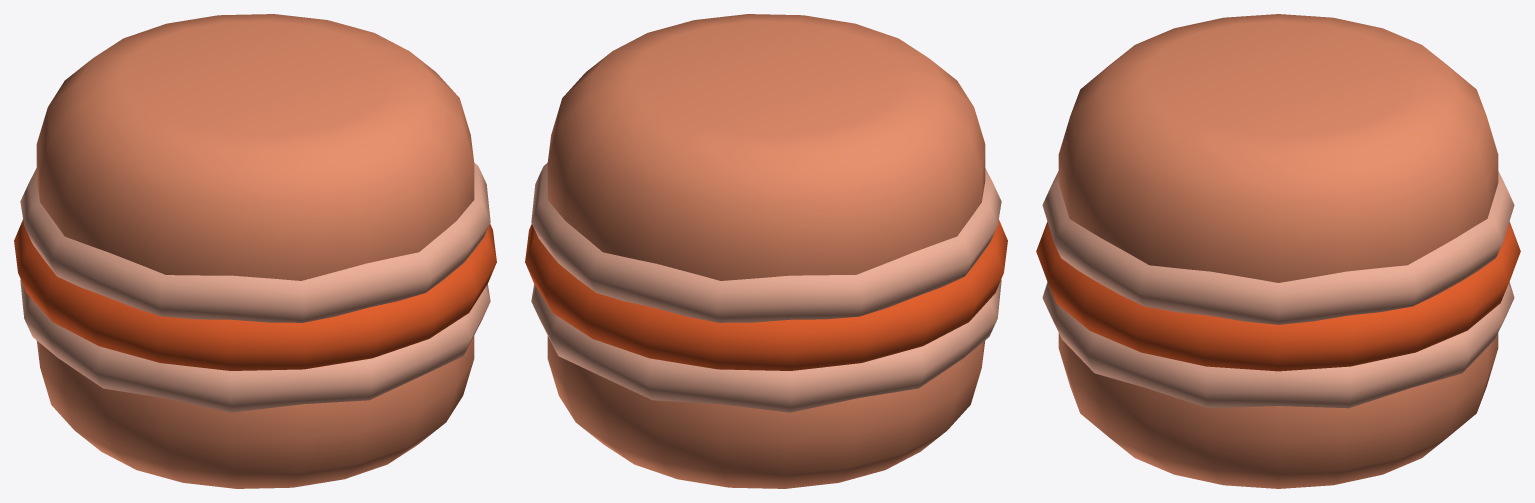
Rendered from Macaron.fbx.
3 renders of one model, left to right at view 1: azimuth 30°, elevation 25°; view 2: azimuth 150°, elevation 25°; view 3: azimuth 270°, elevation 25°, orthographic.
Parts seen in each view (by area): view 1: Macaron; view 2: Macaron; view 3: Macaron.
Boxes of the visible parts, x1,y1,x2,y2 form: Macaron: [14, 14, 496, 488]; Macaron: [525, 14, 1007, 488]; Macaron: [1036, 14, 1520, 488].
Bounding box in the file's own units: 5.22 × 4.1 × 5.22.
